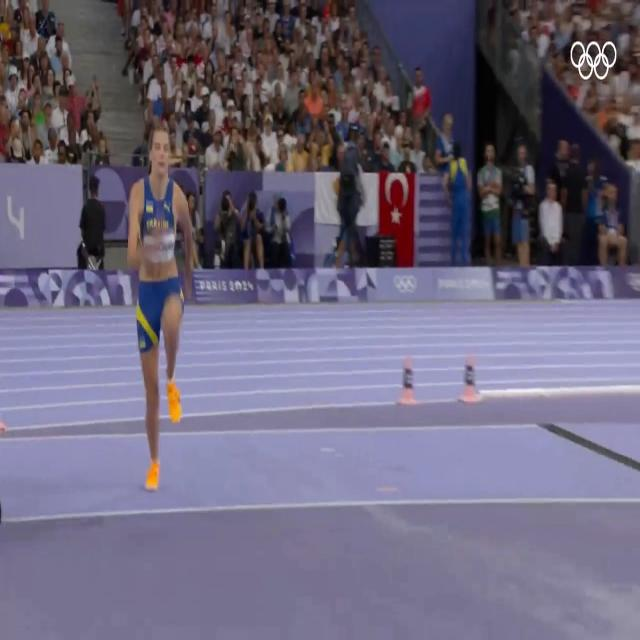run: (125, 122, 196, 488)
